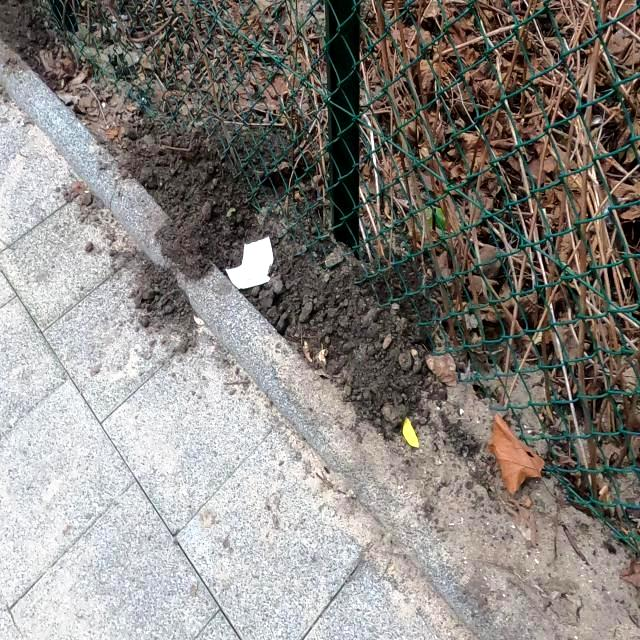Paper: (222, 233, 274, 290)
